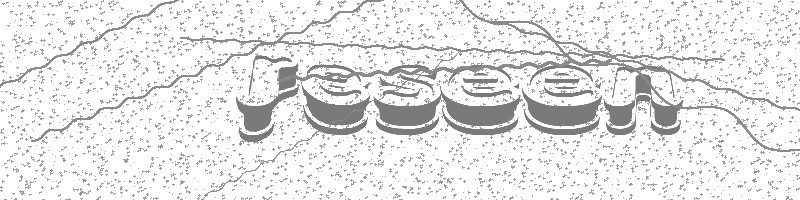e: (440, 63, 521, 137), (521, 63, 603, 136), (301, 60, 370, 138)
n: (603, 63, 684, 136)
r: (229, 49, 301, 142)
s: (370, 61, 441, 136)
